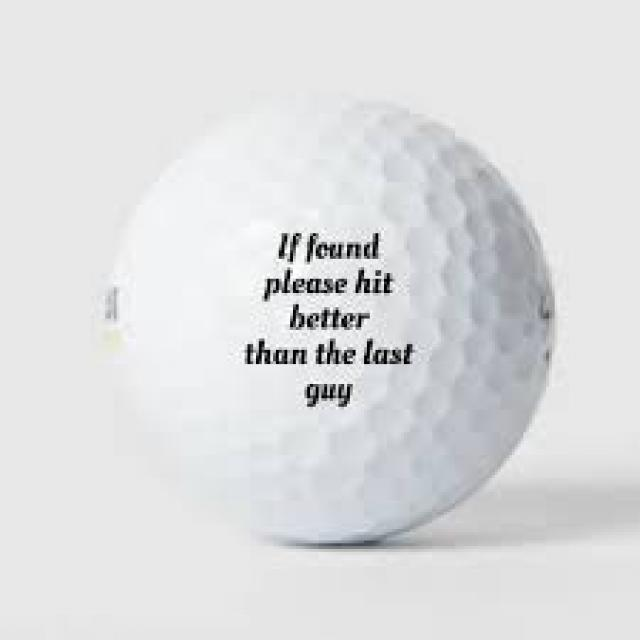golfball: (71, 88, 606, 592)
